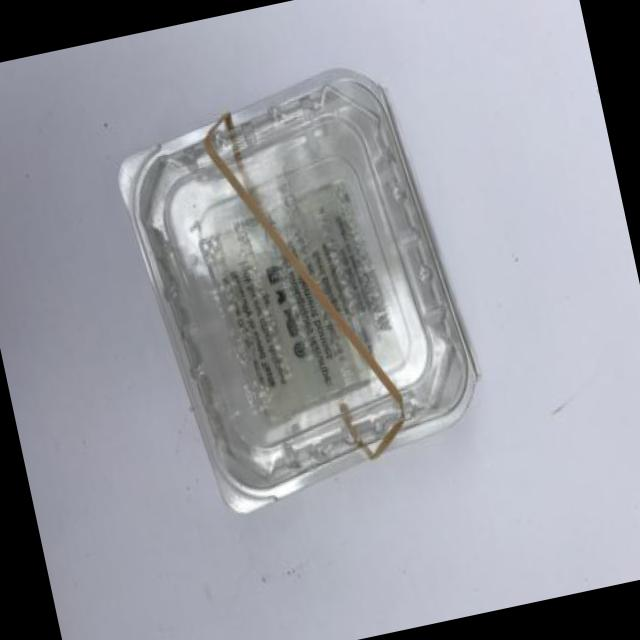Clamshell: (90, 33, 502, 545)
Label: (185, 157, 408, 429)
